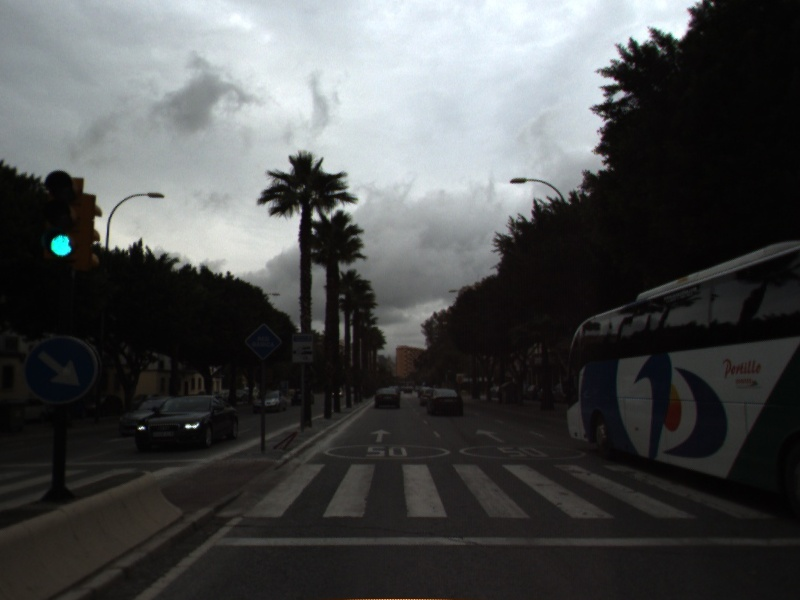STRAIGHT: (474, 427, 506, 445), (368, 427, 394, 444)
